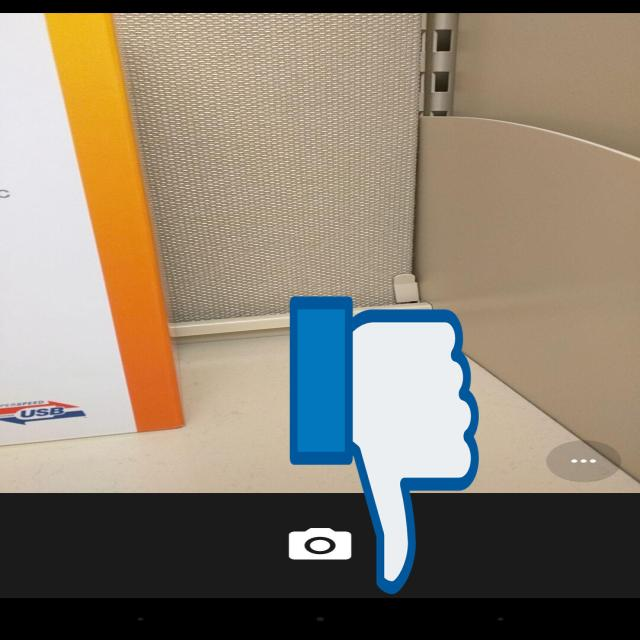obstruction: (290, 290, 479, 601)
